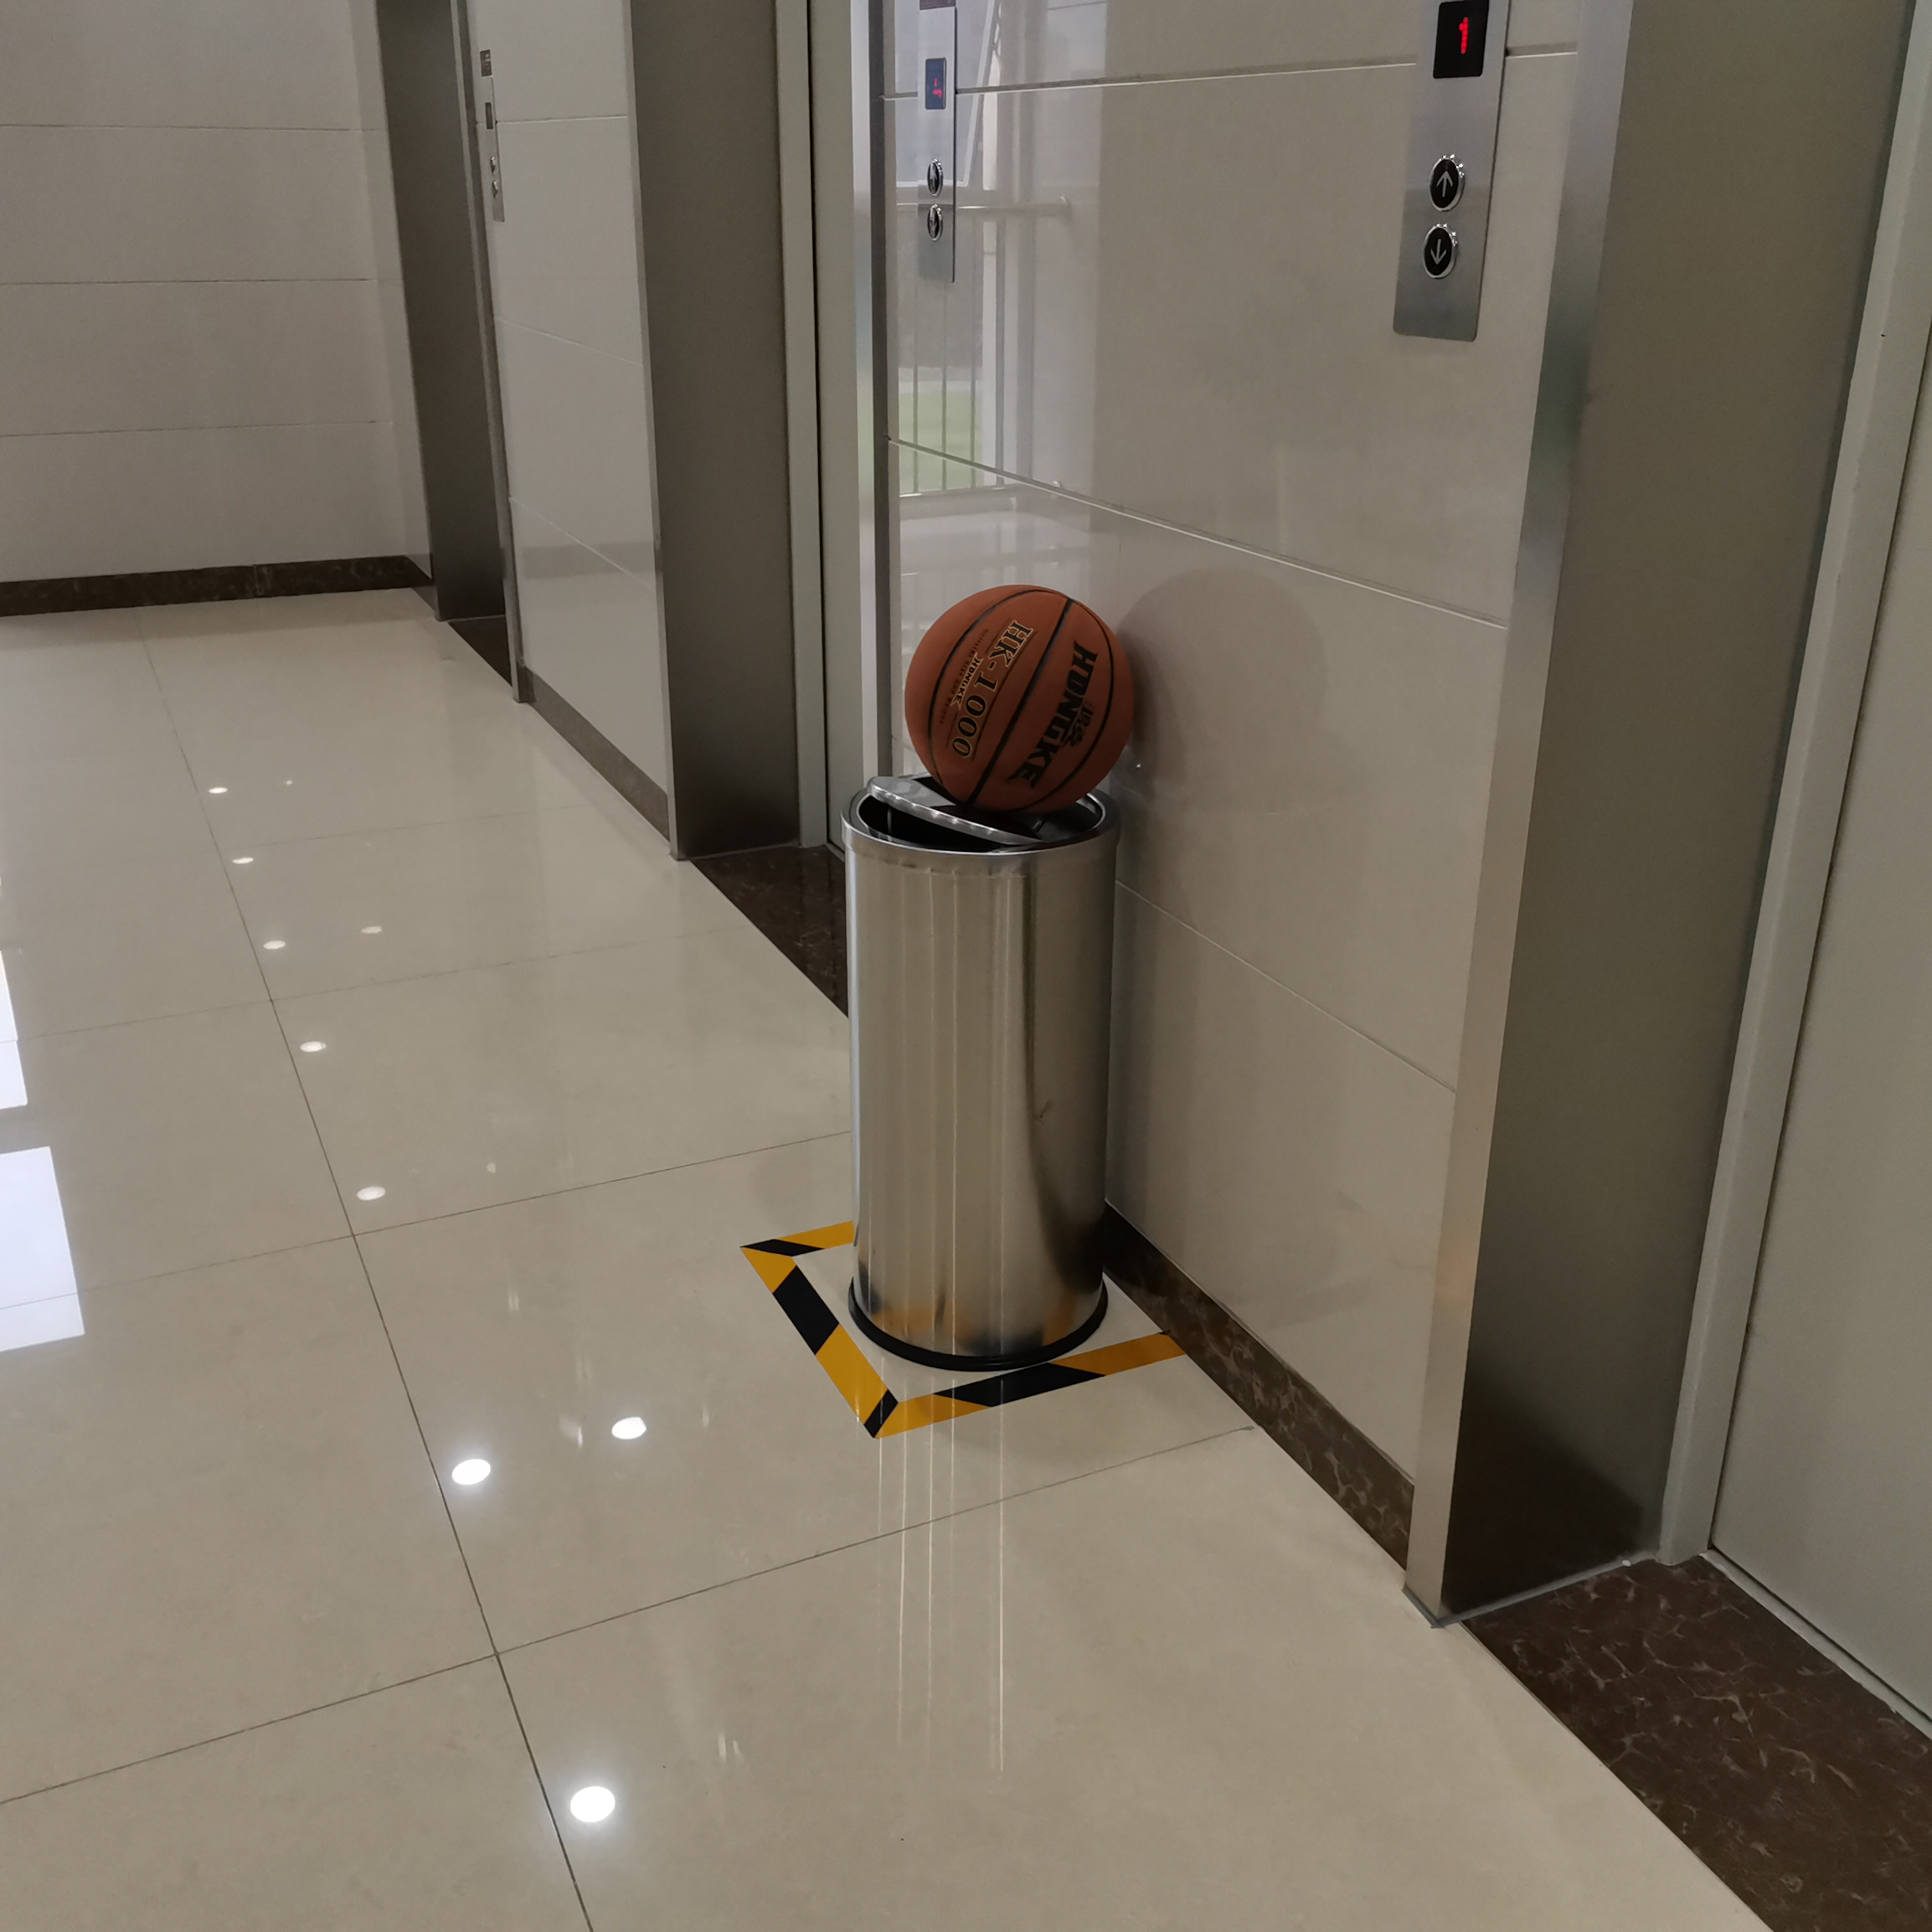basketball: (906, 584, 1138, 816)
